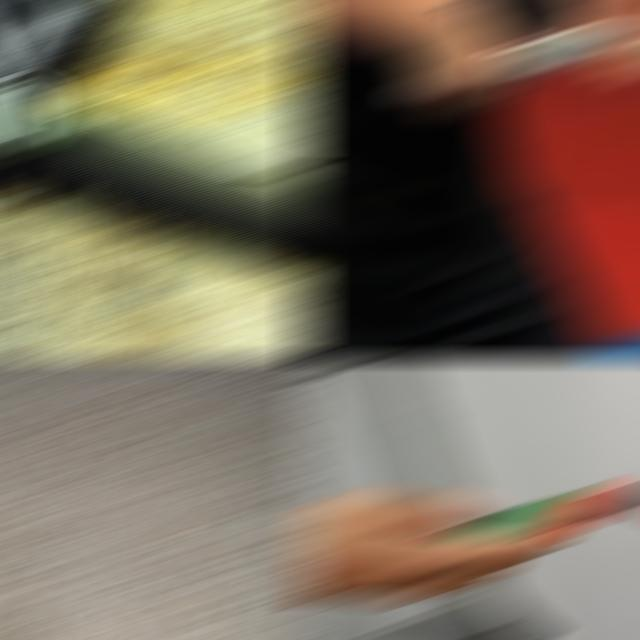Knife: (445, 487, 640, 532), (492, 30, 632, 79)
Knife_Handle: (395, 11, 630, 113)
